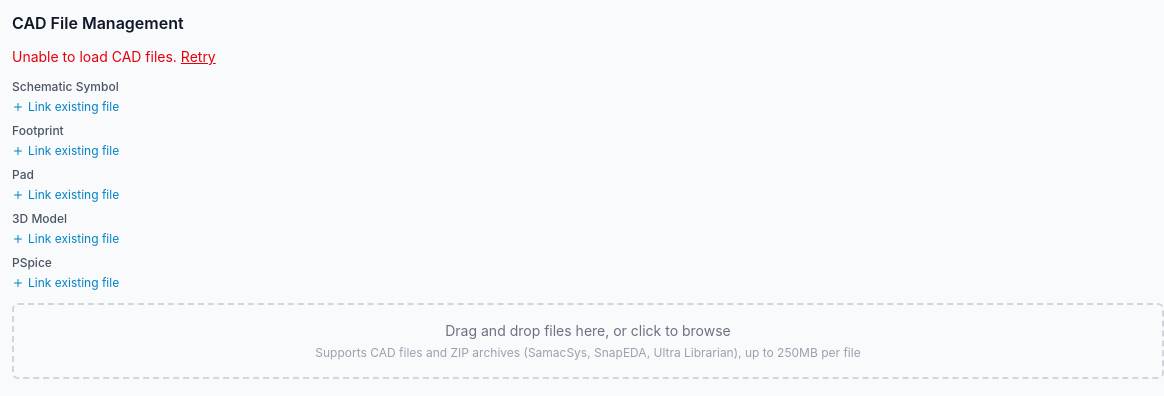
Test: ComponentFiles rendered selection orchestration › offers retry when persisted file records cannot be loaded
Expected: the text "Footprint" is shown, [12,123,64,138]
Expected: the message shows "Unable to load CAD files", [12,48,181,65]
Click the button "Retry". click: (198, 57)
box: [181,47,216,67]
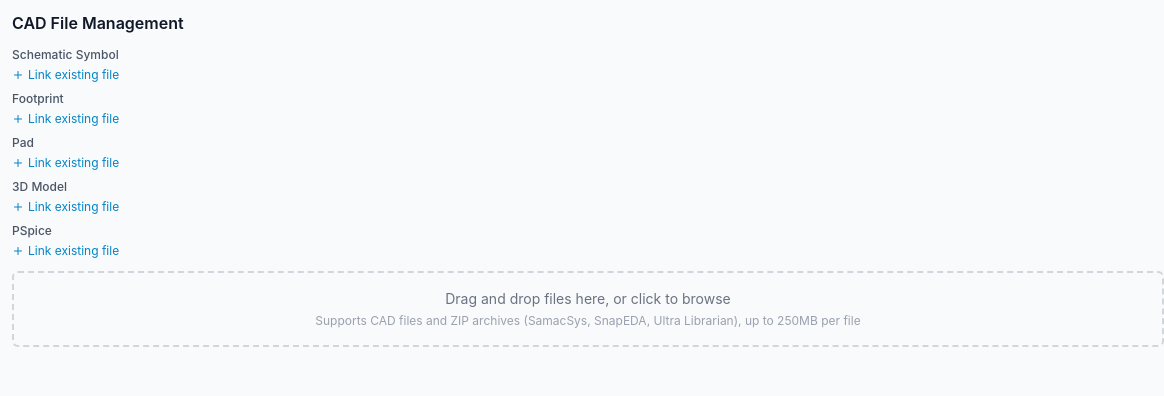
Expected: the message "Unable to load CAD files. Retry" is gone
